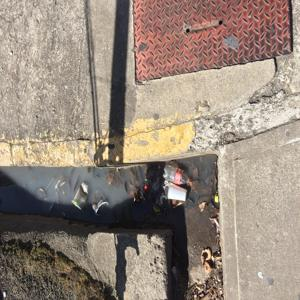cardboard: (163, 181, 187, 204)
plastic bottle: (161, 162, 197, 184)
